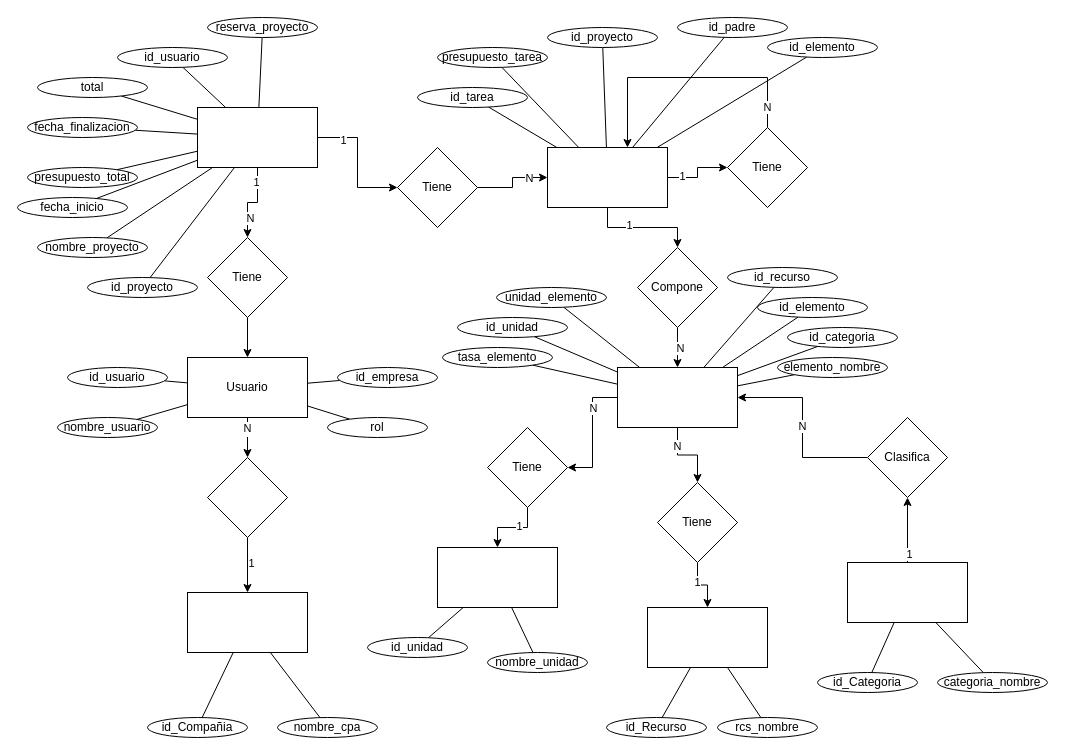
Image size: 1065x755. Some labels were removed from this diagram. Here are the shapes that lost their labels. From the top down, the box of each, then its label:
(196, 106, 318, 168): Proyecto
(546, 146, 668, 208): Tarea
(616, 366, 738, 428): Elemento
(206, 456, 288, 538): Pertenece
(436, 546, 558, 608): Unidad
(846, 562, 968, 622): Categoria
(186, 592, 308, 652): Compañia
(646, 606, 768, 668): Recurso
